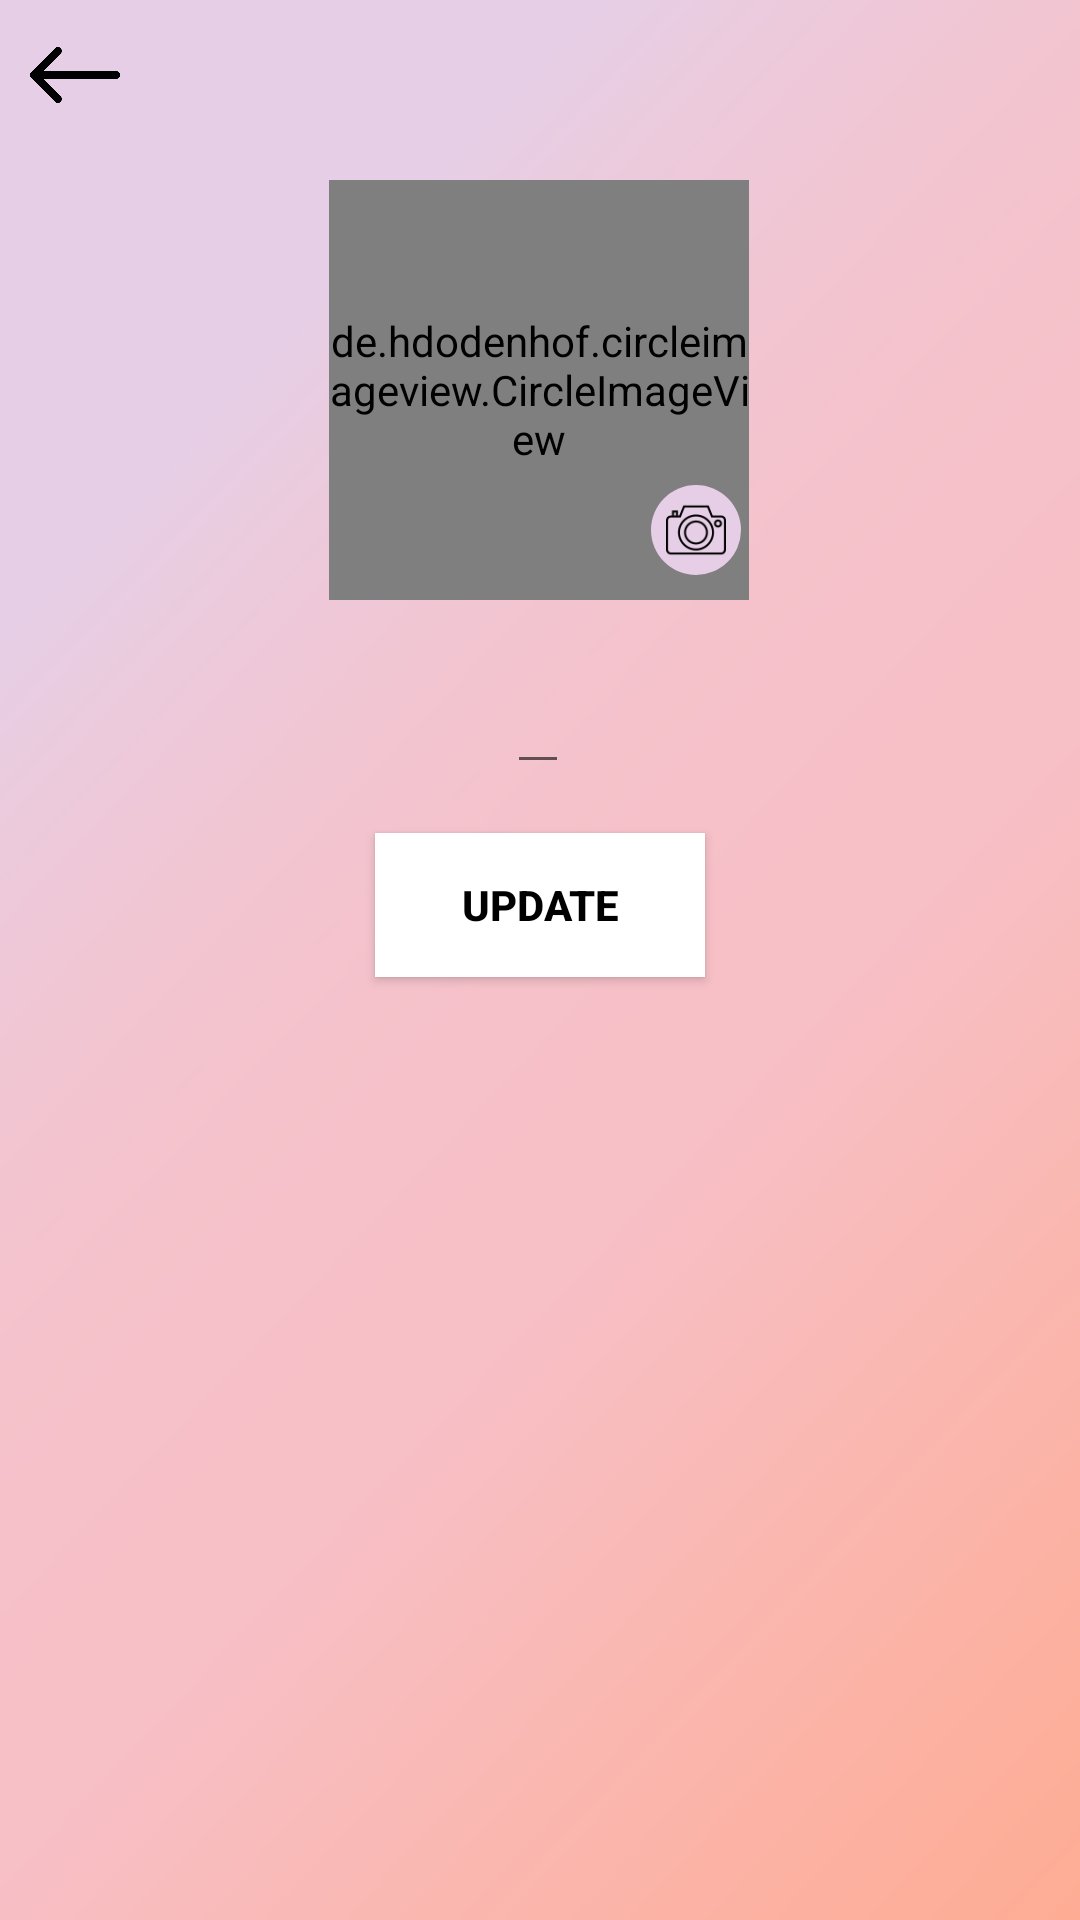

Icons on this 1080w x 1920h Android screen, each with its box as (x1, y1, x2, y2):
back: (30, 47, 120, 103)
camera: (651, 485, 741, 575)
